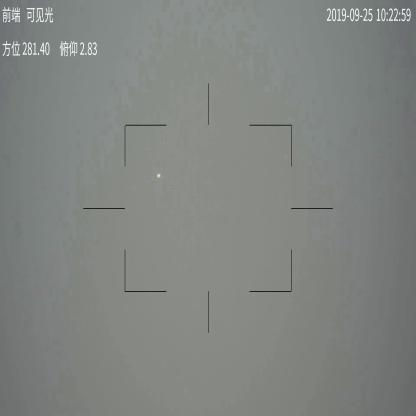uav: (156, 172, 161, 180)
